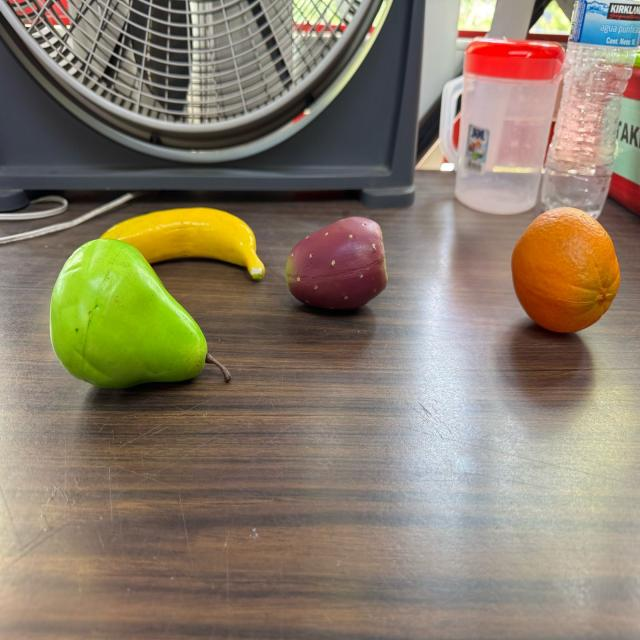banana: (100, 206, 265, 281)
orange: (511, 204, 622, 332)
pear: (50, 238, 232, 389)
tuna: (286, 216, 388, 310)
